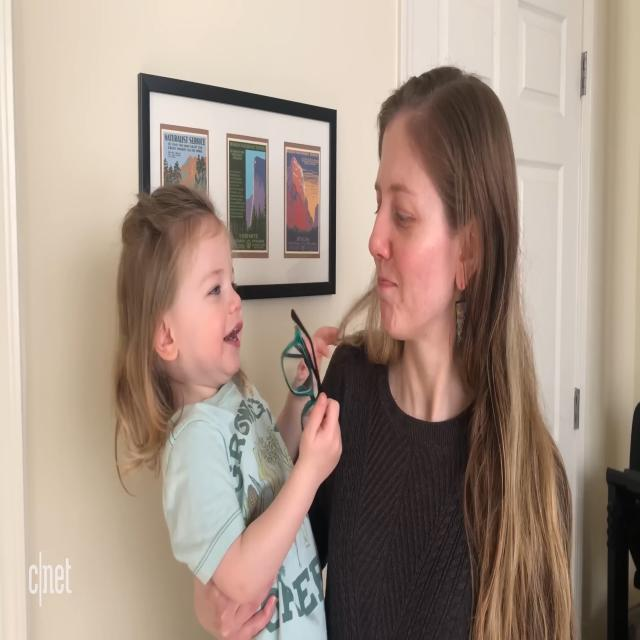dress: (288, 324, 580, 640), (152, 353, 334, 640)
glasses: (277, 304, 327, 441)
